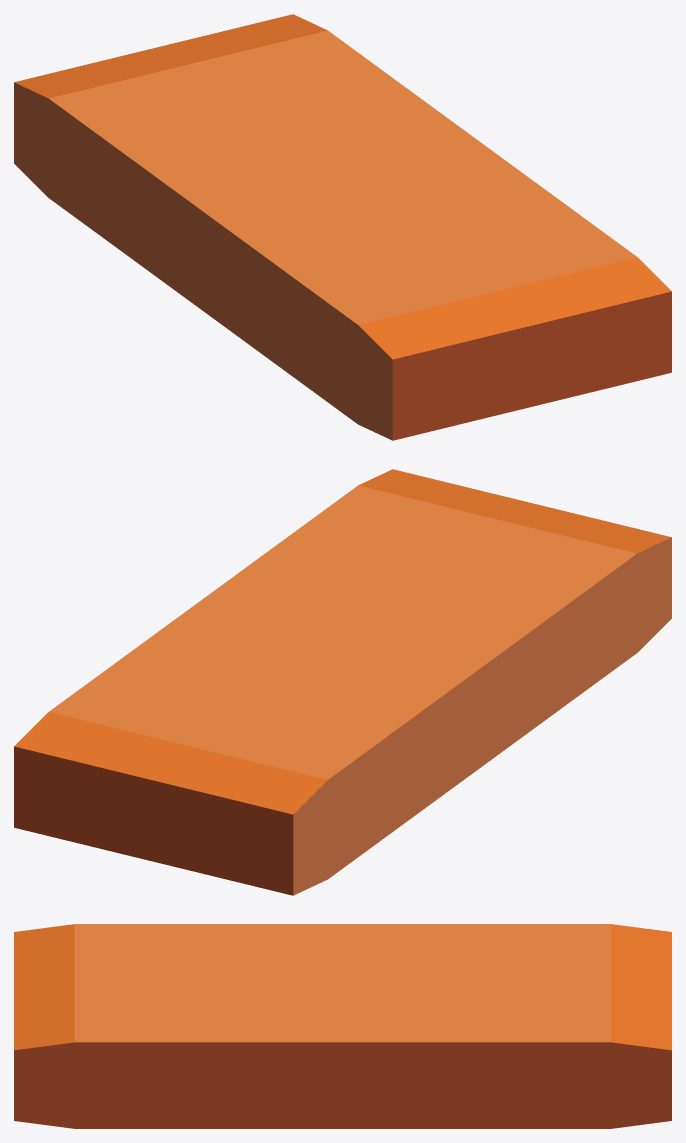
File: Chao.fbx
3 renders of one model, top to bottom at view 1: azimuth 30°, elevation 25°; view 2: azimuth 150°, elevation 25°; view 3: azimuth 270°, elevation 25°, orthographic. The views are drawn at different scales.
Visible parts, largest first — view 1: Chão; view 2: Chão; view 3: Chão.
Boxes of the visible parts, x1,y1,x2,y2 form: Chão: (14,14,671,440); Chão: (14,469,671,895); Chão: (14,924,671,1128).
Bounding box in the file's own units: 225 × 76.66 × 529.
1 material, 1 textured.
